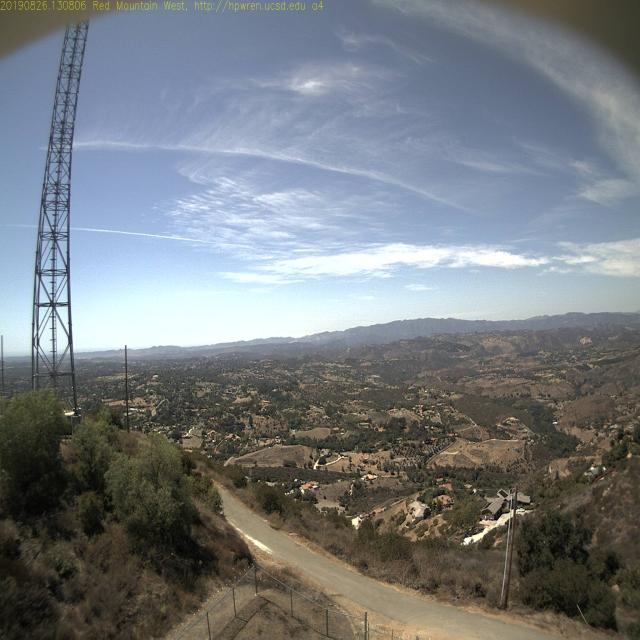smoke: (288, 334, 298, 347)
